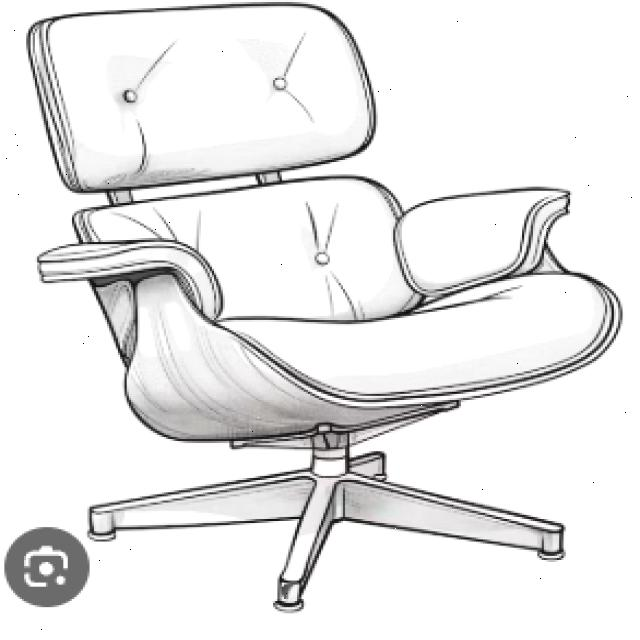Backrest: (69, 174, 424, 324)
Eames_base: (79, 446, 580, 626)
Eames_lounge: (392, 186, 571, 296), (35, 238, 226, 326)
Headrest: (21, 1, 381, 197)
Seat: (123, 266, 626, 445)
